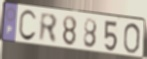5: (103, 19, 119, 52)
8: (82, 17, 98, 50), (62, 15, 78, 48)
C: (17, 9, 38, 43)
O: (122, 23, 142, 55)
R: (38, 11, 59, 45)
